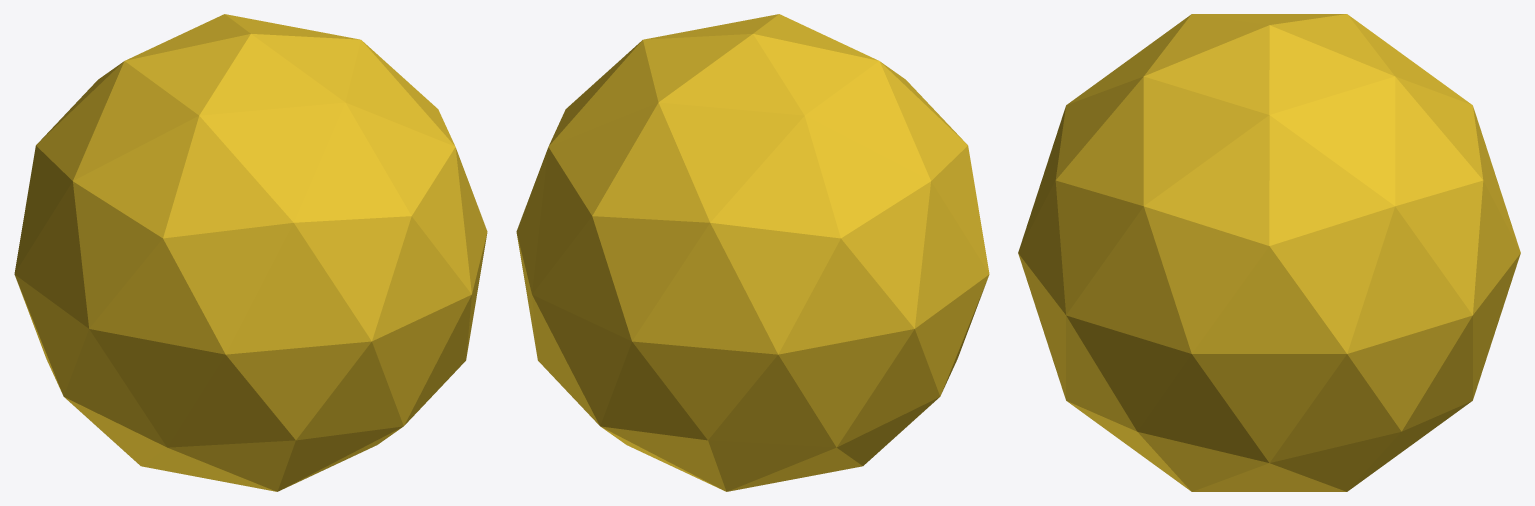
The model's file is sun.dae.
3 renders of one model, left to right at view 1: azimuth 30°, elevation 25°; view 2: azimuth 150°, elevation 25°; view 3: azimuth 270°, elevation 25°, orthographic. The views are drawn at different scales.
Visible parts, largest first — view 1: Icosphere; view 2: Icosphere; view 3: Icosphere.
Boxes of the visible parts, bbox=[...] form: Icosphere: bbox=[14, 14, 487, 491]; Icosphere: bbox=[516, 14, 989, 491]; Icosphere: bbox=[1018, 14, 1520, 491].
Bounding box in the file's own units: 32.25 × 33.91 × 33.91.
